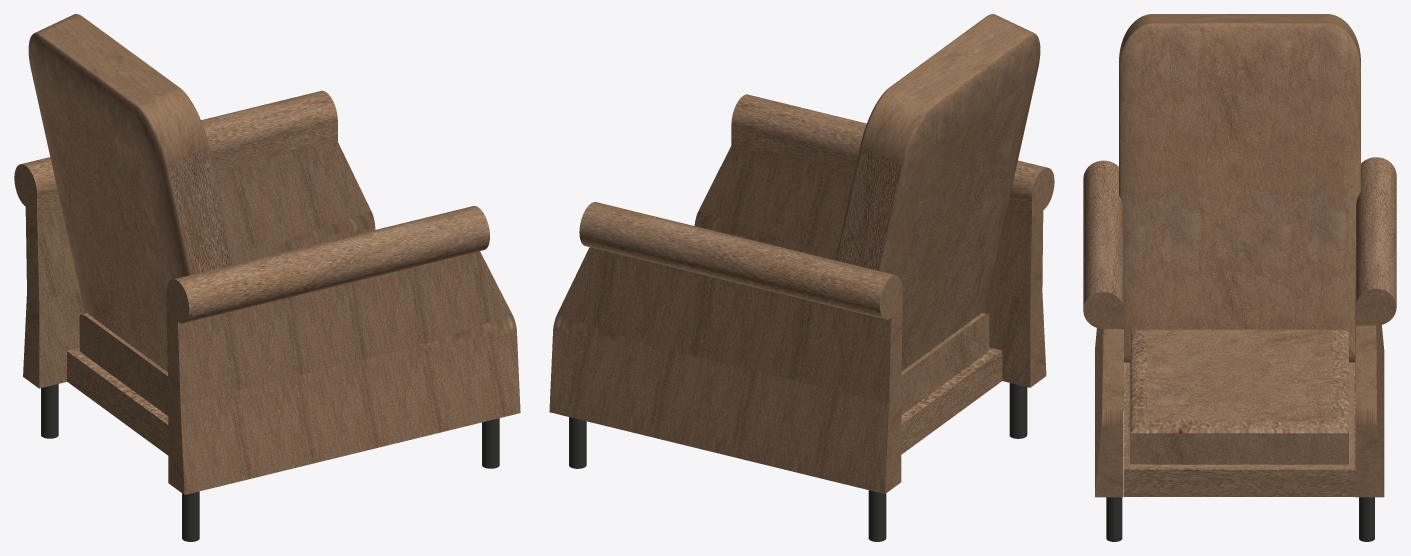
Rendered from LUX кресло.glb.
The picture shows the model from 3 angles, left to right: view 1: azimuth 30°, elevation 25°; view 2: azimuth 150°, elevation 25°; view 3: azimuth 270°, elevation 25°; orthographic projection. The views are drawn at different scales.
Visible parts, largest first — view 1: Cube.002, Circle.001; view 2: Cube.002, Circle.001; view 3: Cube.002, Circle.001.
Boxes of the visible parts, bbox=[...] form: Cube.002: bbox=[14, 14, 520, 494]; Circle.001: bbox=[41, 384, 499, 541]; Cube.002: bbox=[549, 14, 1054, 493]; Circle.001: bbox=[569, 383, 1027, 541]; Cube.002: bbox=[1083, 14, 1396, 497]; Circle.001: bbox=[1106, 497, 1374, 541].
Bounding box in the file's own units: 1.26 × 1.48 × 1.08.
2 materials, 2 textured.
